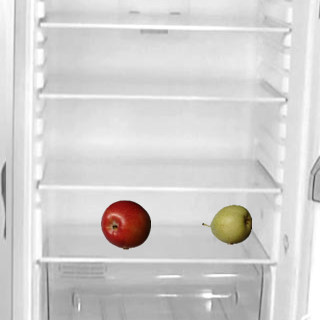Apple Braeburn: (100, 199, 150, 249)
Pear: (201, 199, 251, 249)
